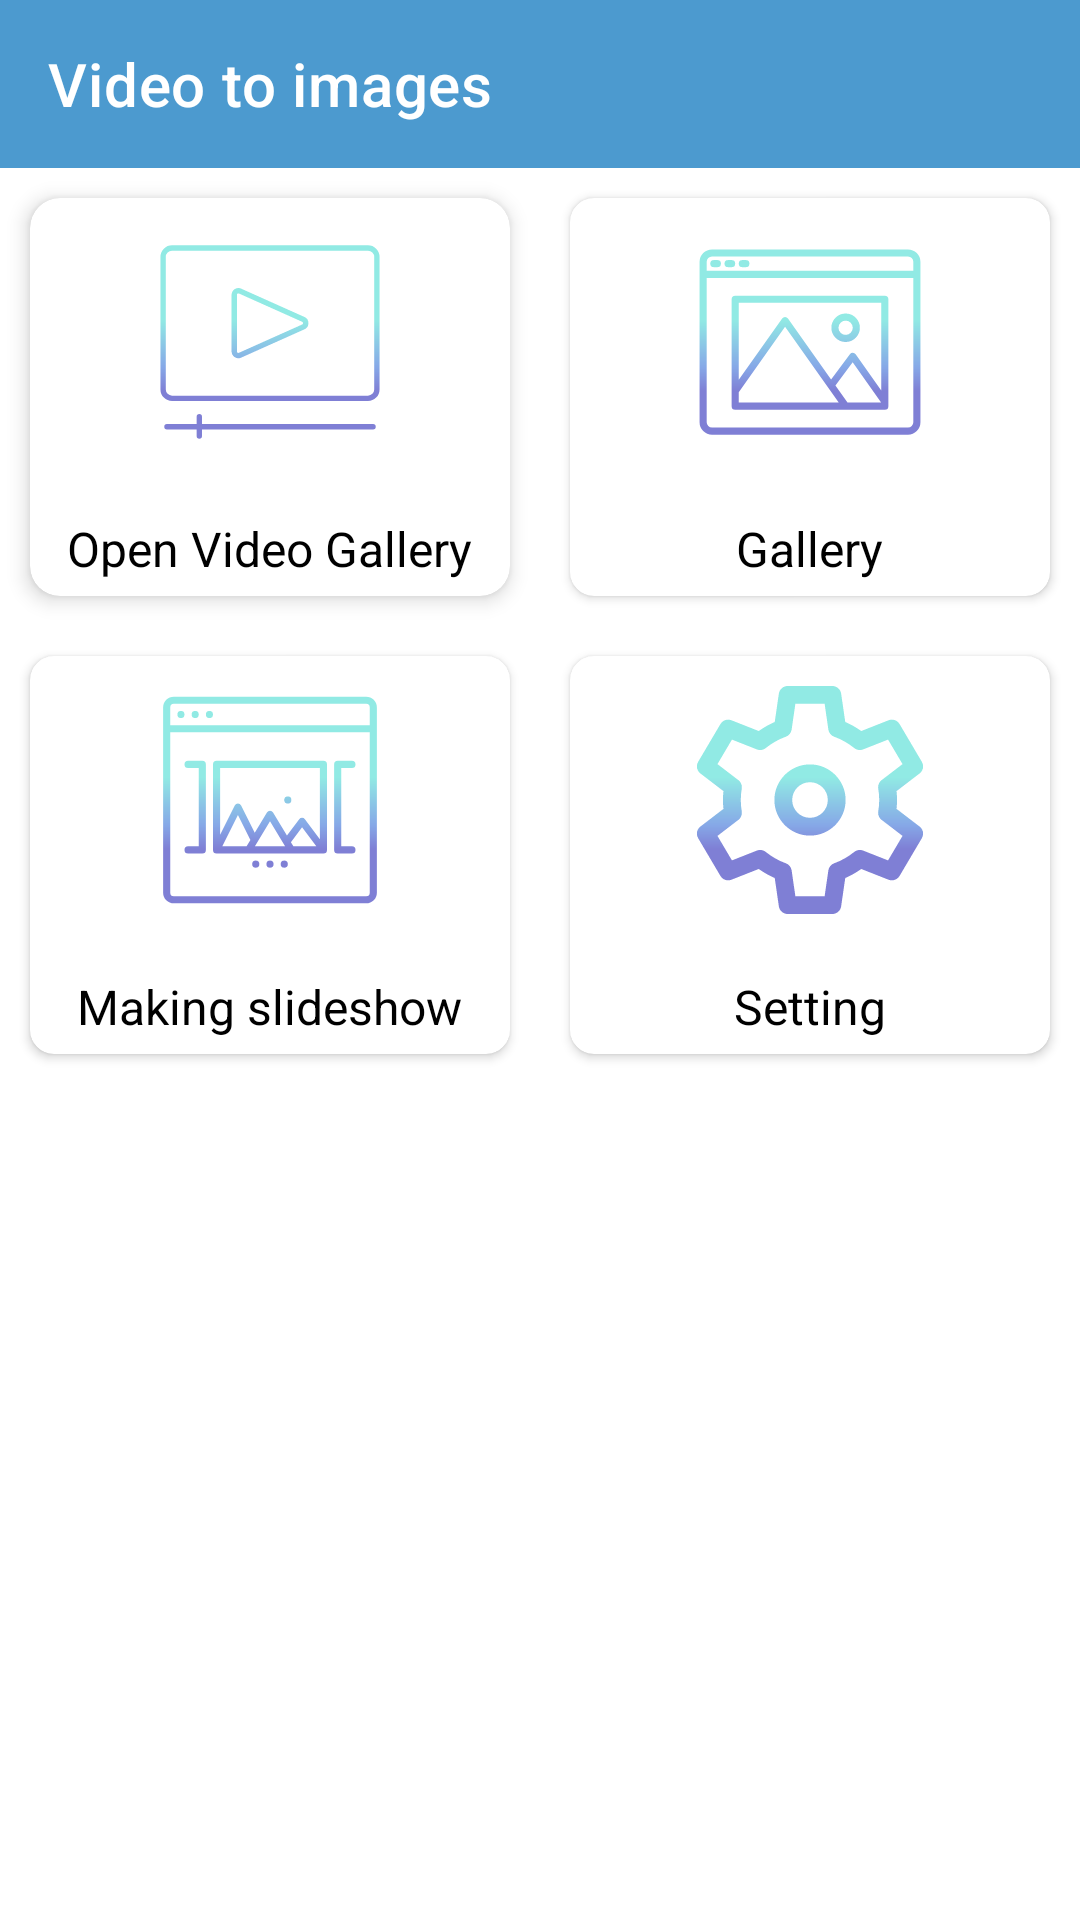

Locate icon controls on the screen. Image size 1080x1920, boxes as (x1, y1, x2, y2).
video player: (160, 245, 380, 439)
